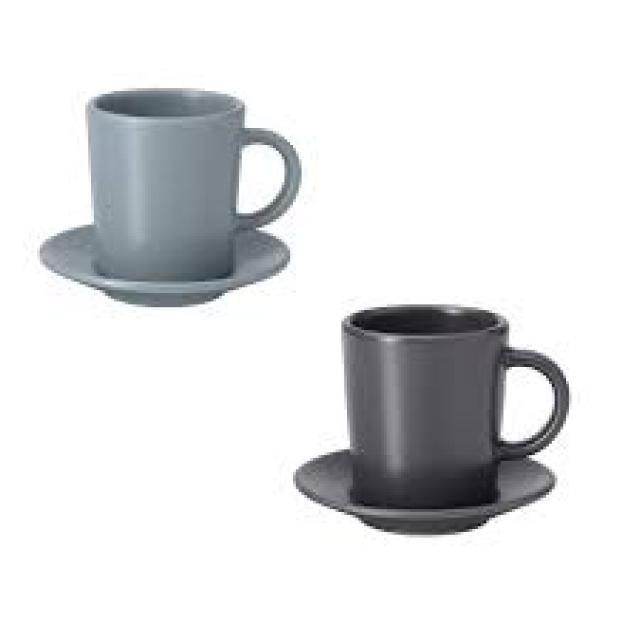taza: (342, 300, 570, 507), (87, 87, 300, 284)
